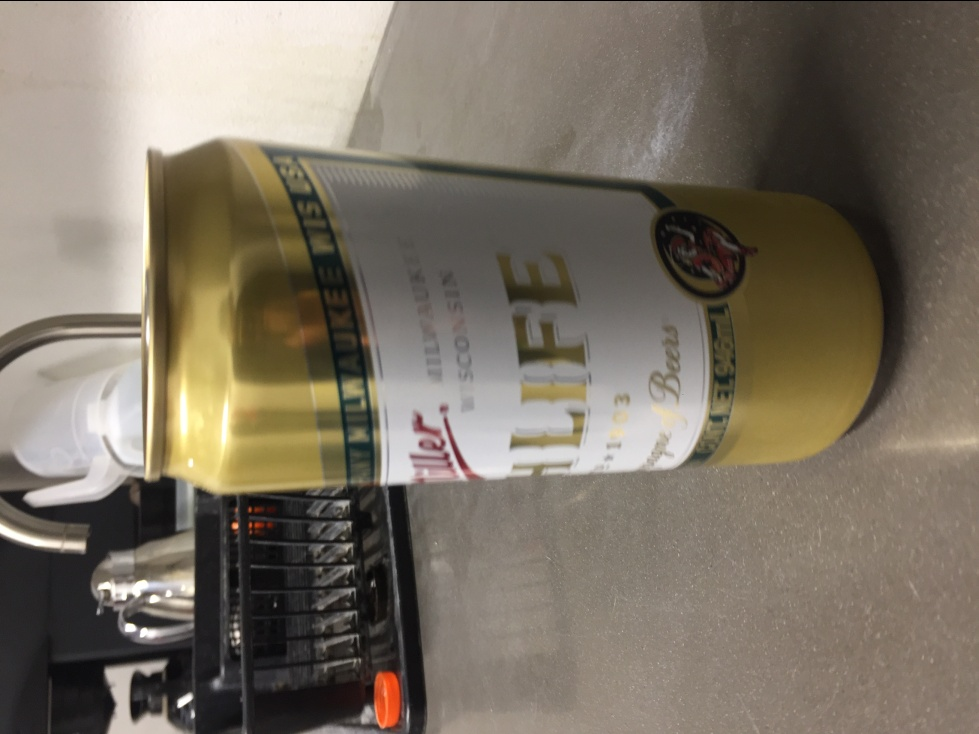miller: (133, 133, 892, 501)
